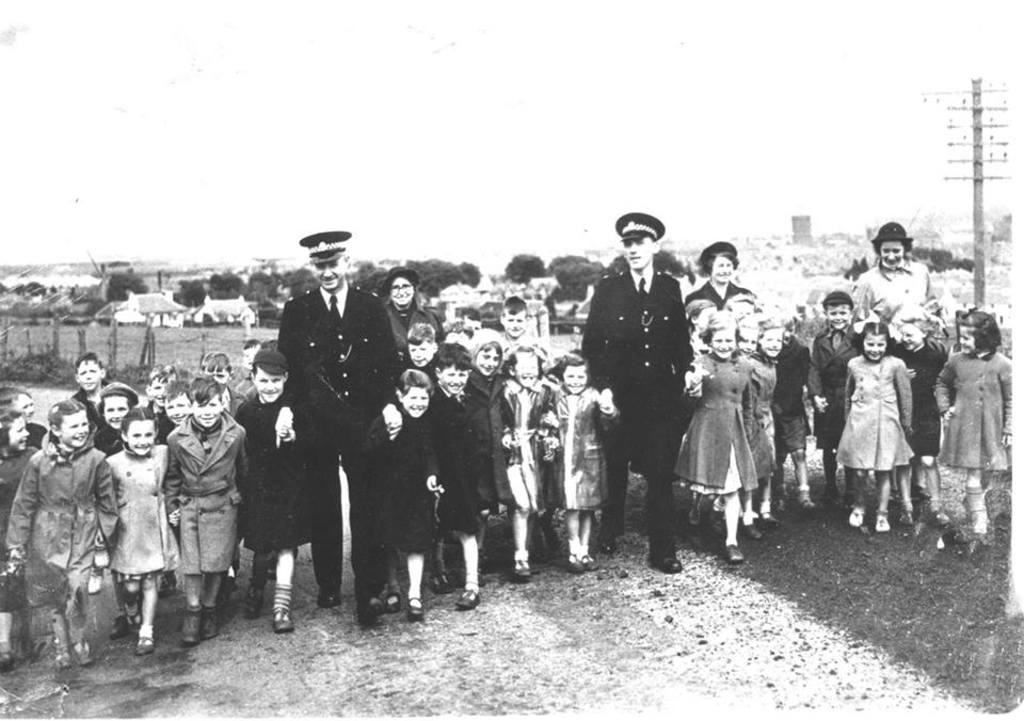Person: (0, 211, 1012, 670)
